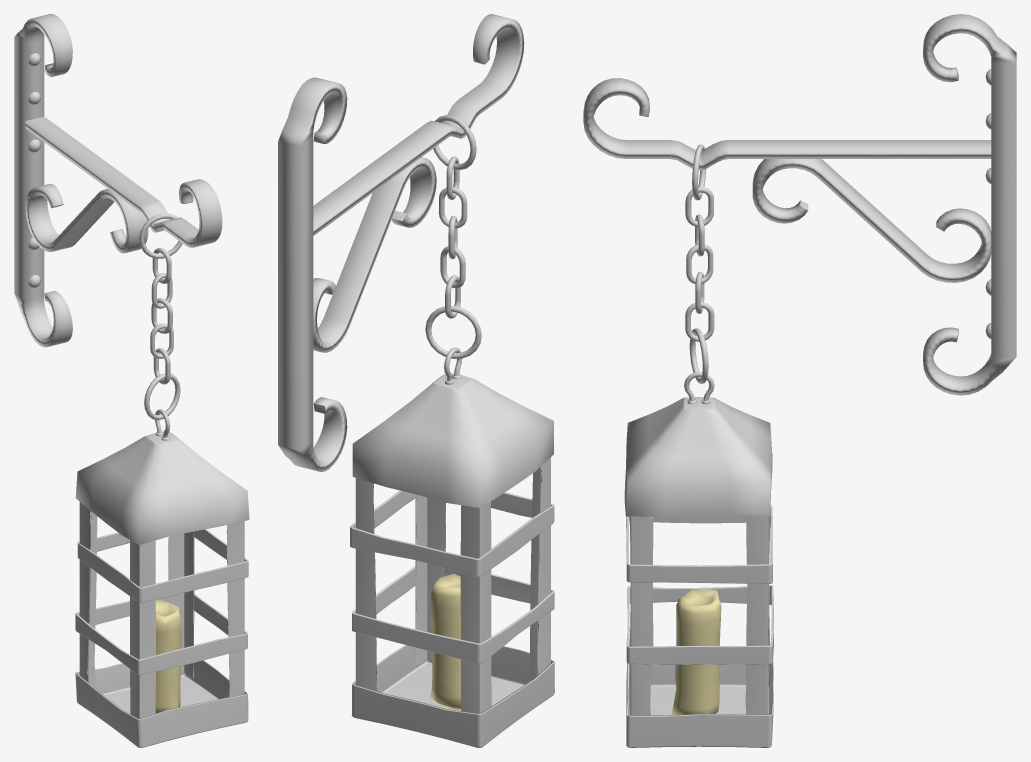
Rendered from Wall_Lantern.fbx.
3 renders of one model, left to right at view 1: azimuth 30°, elevation 25°; view 2: azimuth 150°, elevation 25°; view 3: azimuth 270°, elevation 25°, orthographic. The views are drawn at different scales.
Visible parts, largest first — view 1: Lantern_Base, Lantern_WallMount, Lantern_Chain, Candle; view 2: Lantern_Base, Lantern_WallMount, Lantern_Chain, Candle; view 3: Lantern_Base, Lantern_WallMount, Candle, Lantern_Chain.
Part boxes in pixels (x1,y1,x2,y2): Lantern_Base: [75, 409, 249, 747]; Lantern_WallMount: [14, 14, 222, 347]; Lantern_Chain: [139, 213, 182, 419]; Candle: [155, 599, 182, 713]; Lantern_Base: [350, 347, 554, 747]; Lantern_WallMount: [278, 14, 524, 471]; Lantern_Chain: [425, 115, 481, 358]; Candle: [430, 573, 460, 709]; Lantern_Base: [624, 371, 773, 747]; Lantern_WallMount: [583, 14, 1016, 395]; Candle: [671, 588, 721, 714]; Lantern_Chain: [685, 144, 714, 383].
Size of the model in its own units: 0.2036 by 1.06 by 0.5922.
